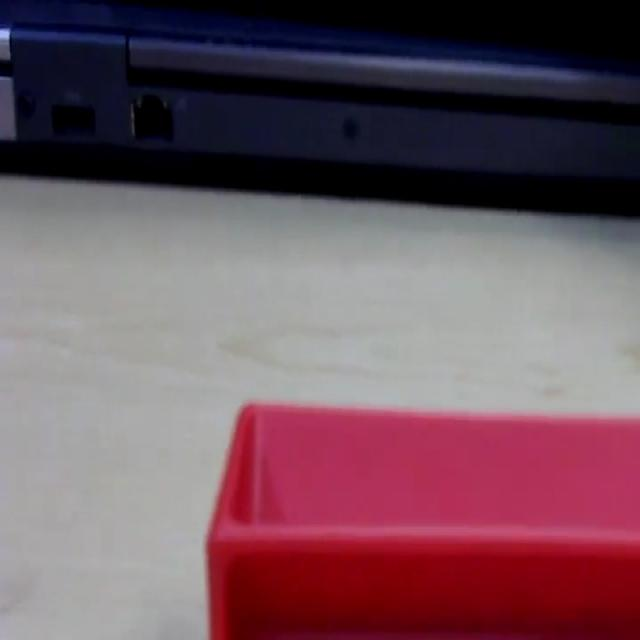red_block: (204, 396, 639, 636)
